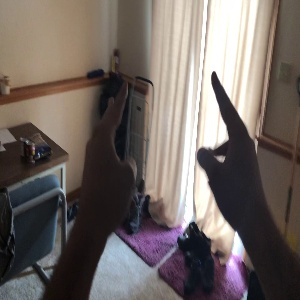hand: (198, 71, 269, 228), (80, 82, 138, 232)
